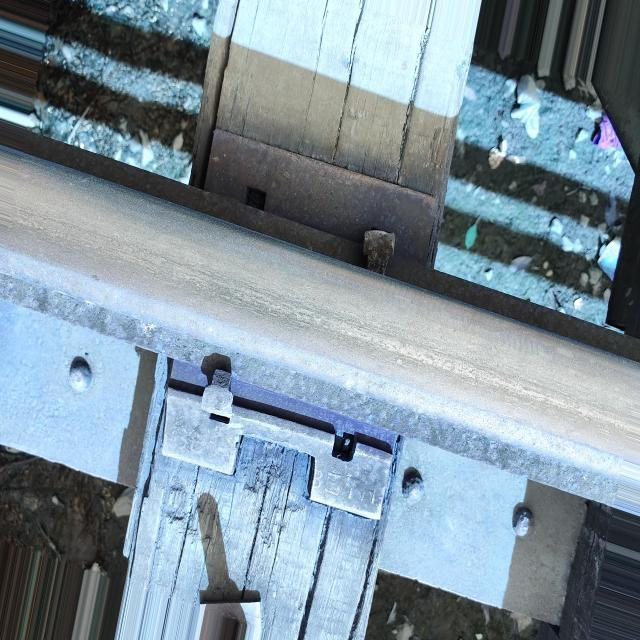Good Fasteners: (201, 370, 233, 418), (363, 230, 395, 274)
Missing Dogscrew: (332, 432, 356, 461)
Missing Fastener: (246, 187, 266, 210)
